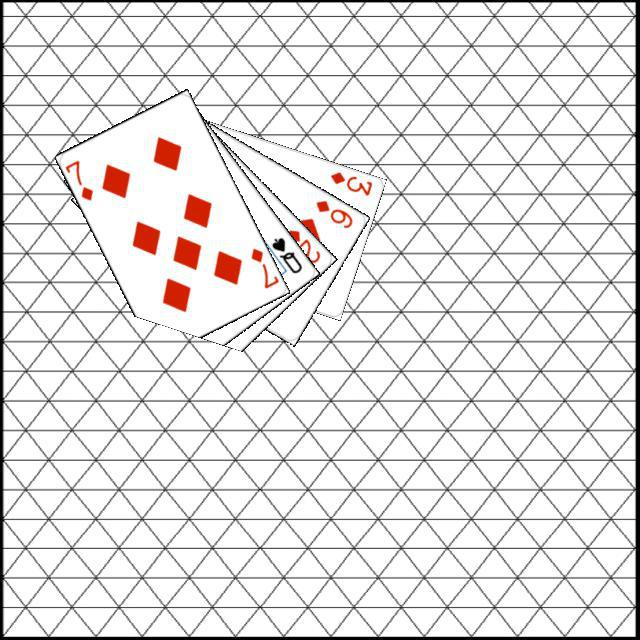2d: (283, 224, 322, 265)
3d: (325, 167, 374, 198)
6d: (311, 195, 354, 230)
7d: (61, 155, 95, 202), (246, 243, 279, 290)
Qs: (267, 232, 304, 275)
